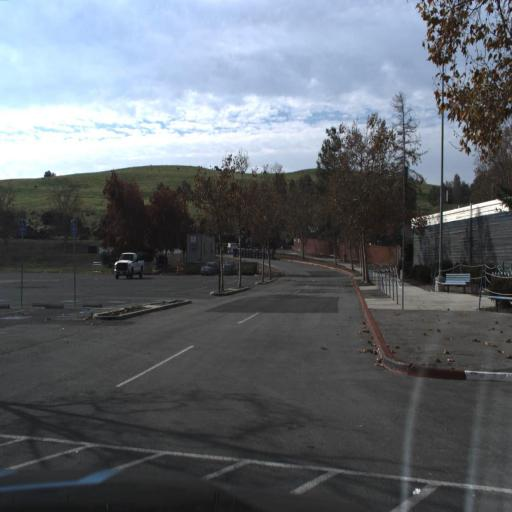car: (108, 248, 146, 281)
